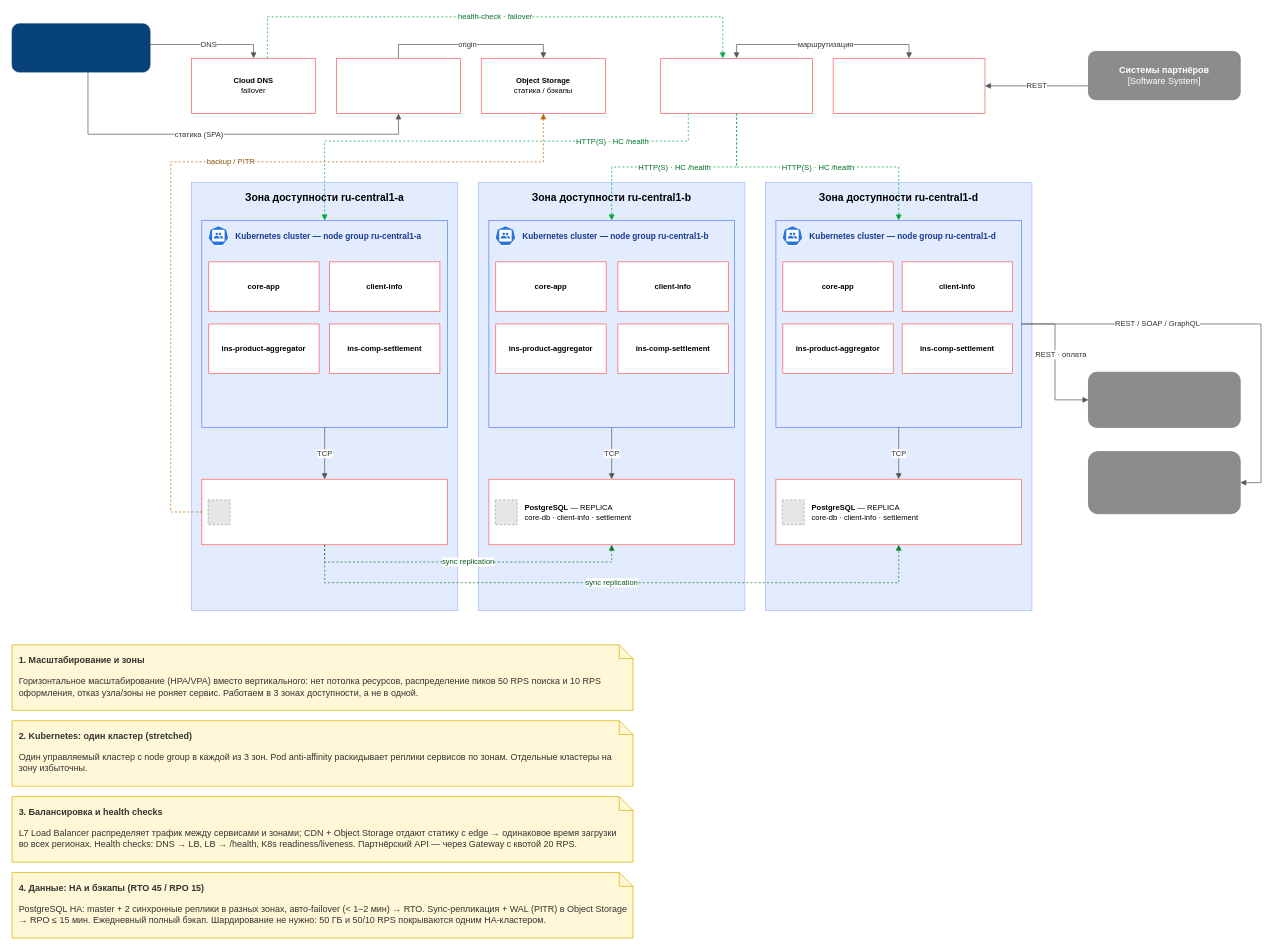
The diagram is 1279 pixels wide and 950 high, and some of its shapes have lost their labels. Grey dashed boxes stand in for pictures. Here are the shapes that lost their labels. From the top down, the box of each, then its label:
(11, 23, 150, 72): Клиент [Person]
(336, 58, 461, 114): CDN кэш статики
(660, 58, 812, 114): Application Load Balancer L7 · health-check
(832, 58, 985, 114): API Gateway + WAF квоты 20 RPS
(1088, 372, 1240, 427): Платёжный сервис [Software System]
(1088, 451, 1240, 514): Системы страховых компаний [Software System]
(201, 479, 447, 545): PostgreSQL — MASTER core-db · client-info · settlement
